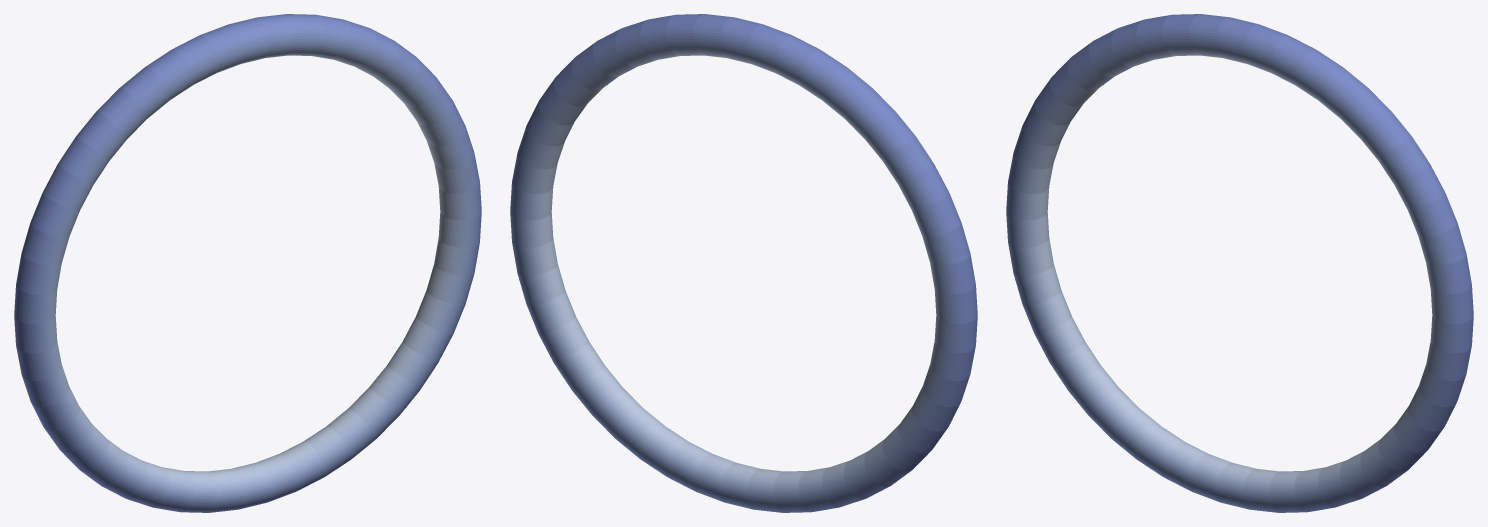
The picture shows the model from 3 angles, left to right: view 1: azimuth 30°, elevation 25°; view 2: azimuth 150°, elevation 25°; view 3: azimuth 330°, elevation 25°; orthographic projection.
Parts seen in each view (by area): view 1: world; view 2: world; view 3: world.
Boxes of the visible parts, x1,y1,x2,y2 form: world: (14,14,481,512); world: (510,14,977,512); world: (1006,14,1473,512).
Size of the model in its own units: 32.53 by 32.47 by 2.53.
